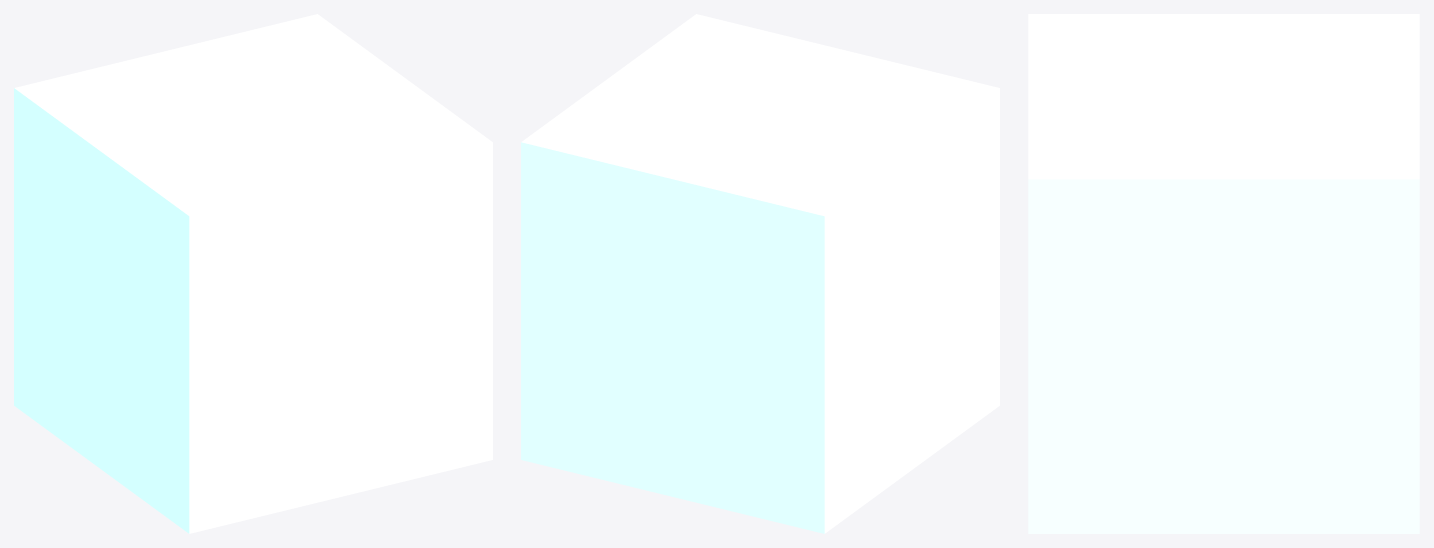
File: cubes.gltf
3 renders of one model, left to right at view 1: azimuth 30°, elevation 25°; view 2: azimuth 150°, elevation 25°; view 3: azimuth 270°, elevation 25°, orthographic. The views are drawn at different scales.
Parts seen in each view (by area): view 1: box221, box222, box220, box121, box021, box211, box201, box122, box120, box022, box020, box202 (+7 smaller); view 2: box211, box210, box212, box111, box011, box221, box201, box110, box112, box010, box012, box202 (+7 smaller); view 3: box101, box121, box111, box100, box102, box110, box122, box120, box112, box001, box021, box011 (+3 smaller).
Boxes of the visible parts, bbox=[...] form: box221: bbox=[131, 149, 290, 321]; box222: bbox=[131, 385, 290, 533]; box220: bbox=[131, 280, 290, 427]; box121: bbox=[333, 99, 492, 272]; box021: bbox=[232, 124, 391, 297]; box211: bbox=[14, 63, 173, 236]; box201: bbox=[72, 106, 231, 278]; box122: bbox=[391, 354, 492, 484]; box120: bbox=[391, 248, 492, 378]; box022: bbox=[290, 379, 391, 508]; box020: bbox=[290, 273, 391, 403]; box202: bbox=[72, 343, 130, 490]; box211: bbox=[723, 149, 882, 321]; box210: bbox=[723, 280, 882, 427]; box212: bbox=[723, 385, 882, 533]; box111: bbox=[521, 99, 680, 272]; box011: bbox=[622, 124, 781, 297]; box221: bbox=[840, 63, 999, 236]; box201: bbox=[782, 106, 941, 278]; box110: bbox=[521, 248, 622, 378]; box112: bbox=[521, 354, 622, 484]; box010: bbox=[622, 273, 723, 403]; box012: bbox=[622, 379, 723, 508]; box202: bbox=[883, 343, 941, 490]; box101: bbox=[1158, 124, 1289, 297]; box121: bbox=[1028, 124, 1158, 297]; box111: bbox=[1289, 124, 1419, 297]; box100: bbox=[1158, 297, 1289, 415]; box102: bbox=[1158, 415, 1289, 533]; box110: bbox=[1289, 297, 1419, 415]; box122: bbox=[1028, 415, 1158, 533]; box120: bbox=[1028, 297, 1158, 415]; box112: bbox=[1289, 415, 1419, 533]; box001: bbox=[1158, 69, 1289, 124]; box021: bbox=[1028, 69, 1158, 124]; box011: bbox=[1289, 69, 1419, 124].
Size of the model in its own units: 3 by 3 by 3.
